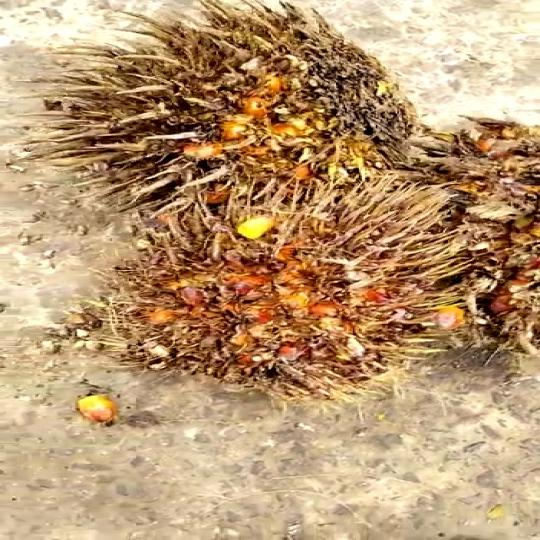terlalu masak: (22, 8, 404, 230), (94, 190, 464, 408)
